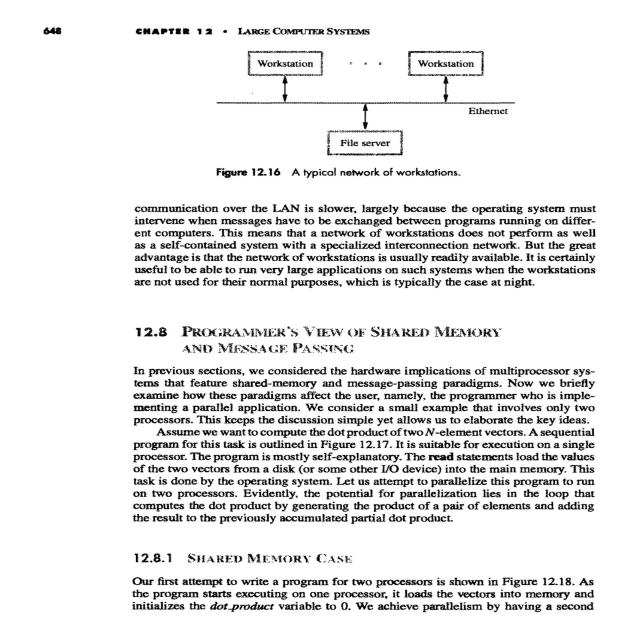diagram: (113, 42, 626, 195)
